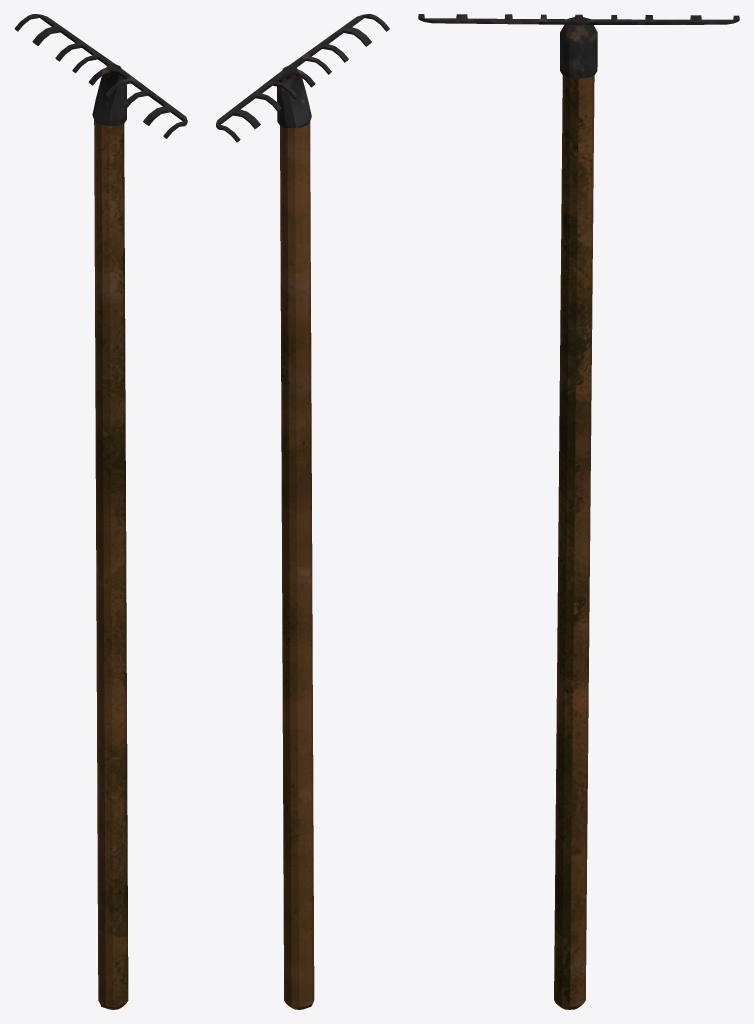
The model's file is Rastelo.fbx.
The picture shows the model from 3 angles, left to right: view 1: azimuth 30°, elevation 25°; view 2: azimuth 150°, elevation 25°; view 3: azimuth 270°, elevation 25°; orthographic projection. The views are drawn at different scales.
Visible parts, largest first — view 1: Rastelo_Mesh; view 2: Rastelo_Mesh; view 3: Rastelo_Mesh.
Part boxes in pixels (<box>): Rastelo_Mesh: <box>14,14,187,1009</box>; Rastelo_Mesh: <box>216,14,389,1009</box>; Rastelo_Mesh: <box>418,14,739,1009</box>.
Size of the model in its own units: 4.64 by 121 by 35.52.
Materials: 1 (1 with a texture image).
